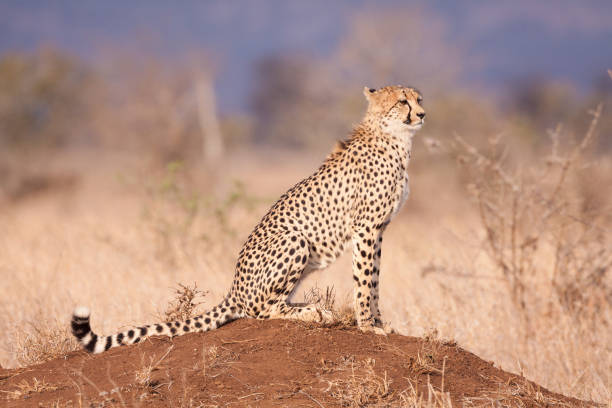cheetah: (354, 80, 433, 135)
